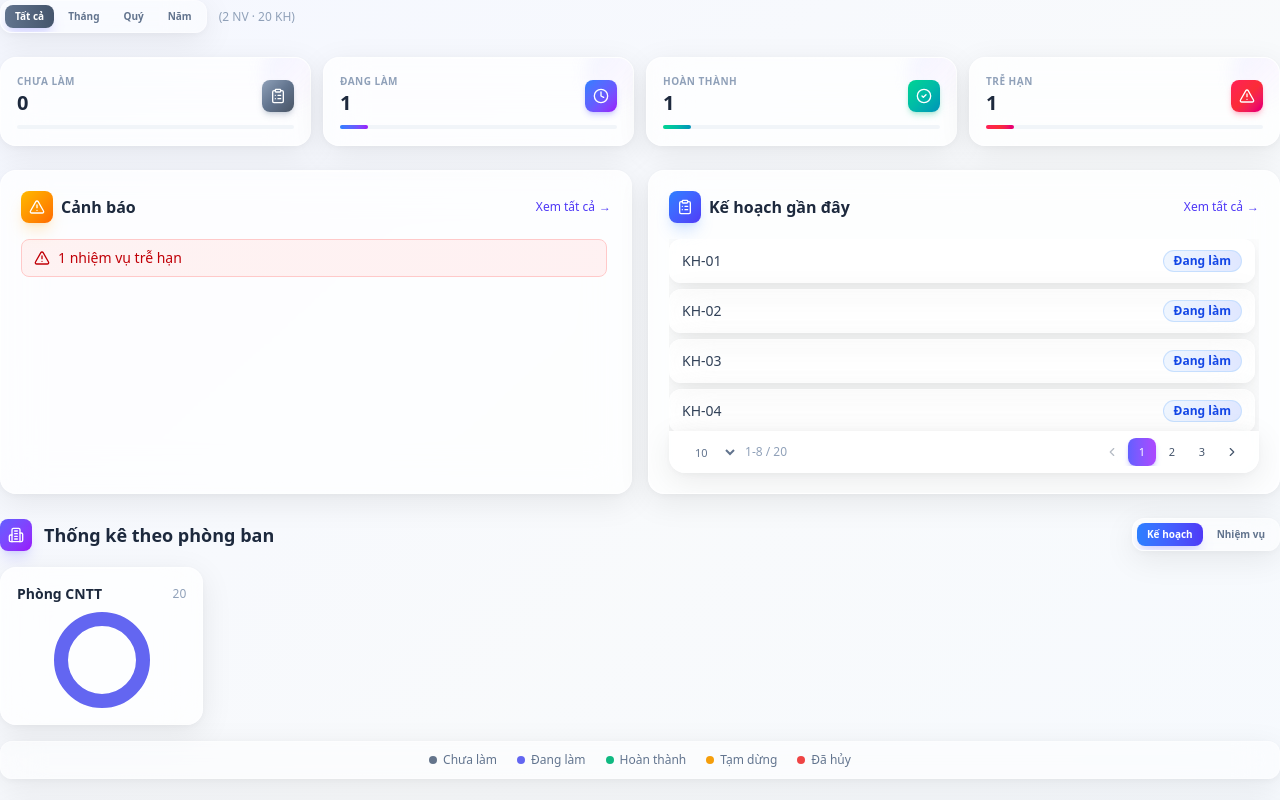
Test: DashboardPage — pagination reset (render-time reset) › resets the plan page to 1 when the page size changes
Expected: the text "1-8 / 20" is shown, [745,444,787,460]
Note: move to page 2
Click the button "2". click: {"x": 1172, "y": 452}
box: [1158,438,1186,466]
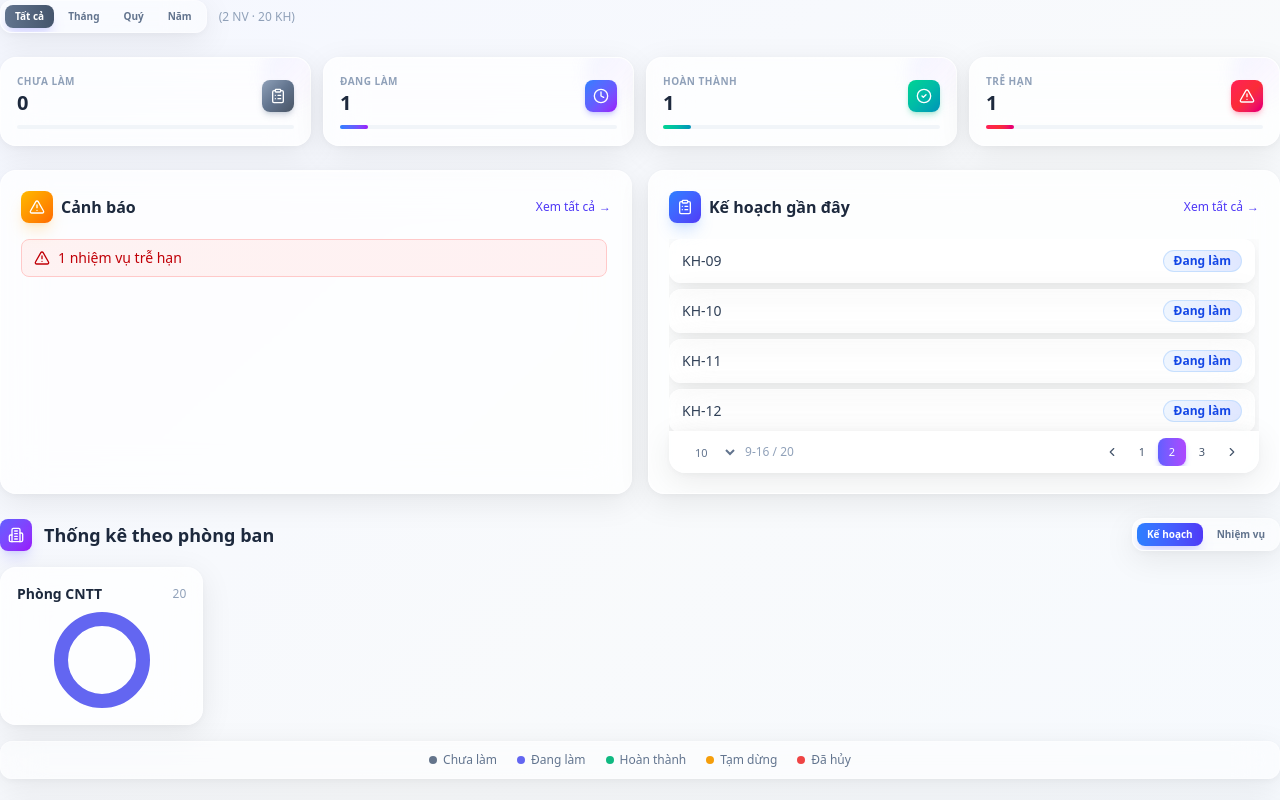
Result: the text "9-16 / 20" is shown at [745,444,794,460]
Note: changing the page size must reset back to page 1
Select "10" in the dropdown titled "Số dòng/trang". click: {"x": 710, "y": 452}
box: [682,438,739,466]
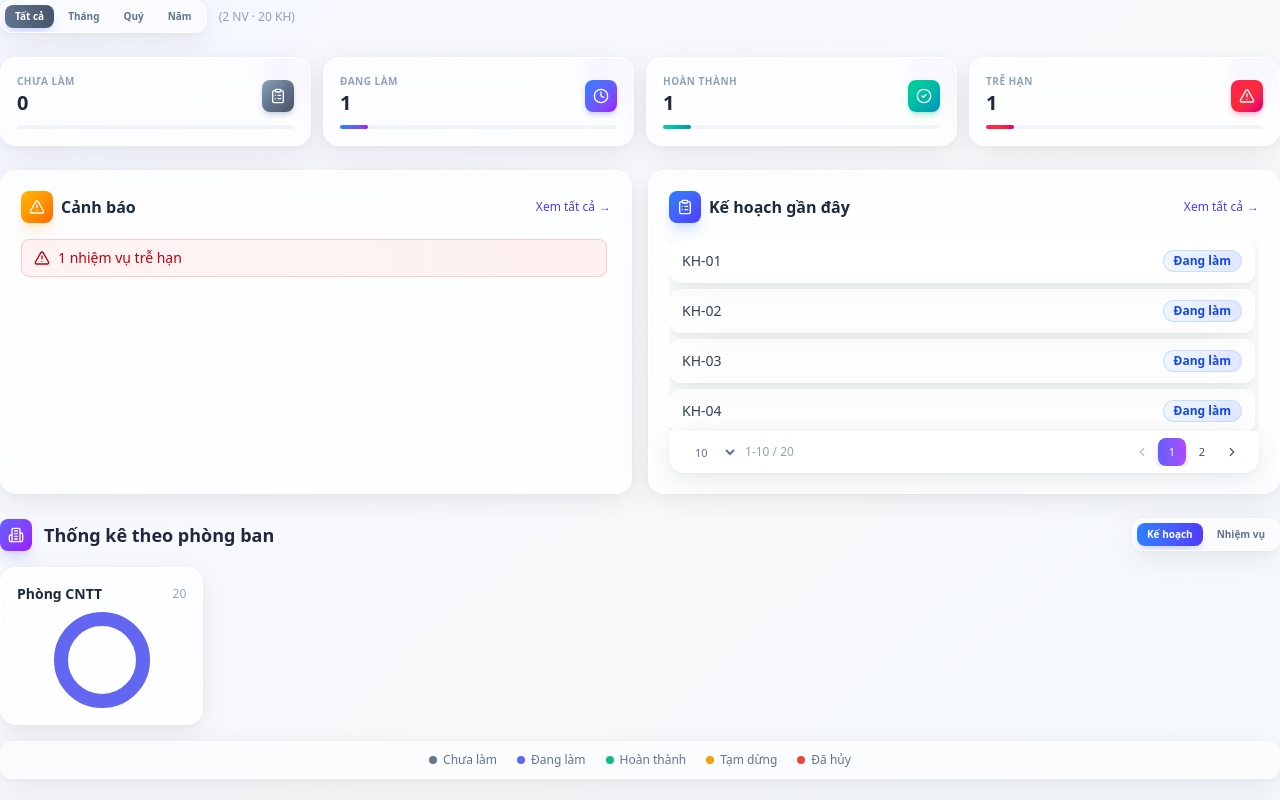
Result: the text "1-10 / 20" is shown at [745,444,794,460]
